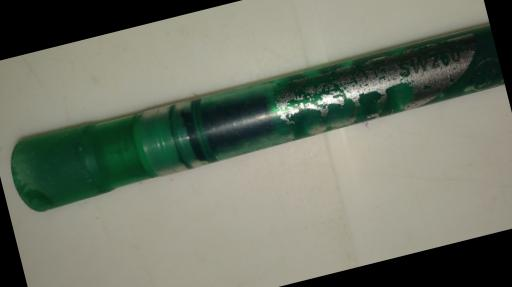Whiteboard marker: (0, 18, 508, 218)
